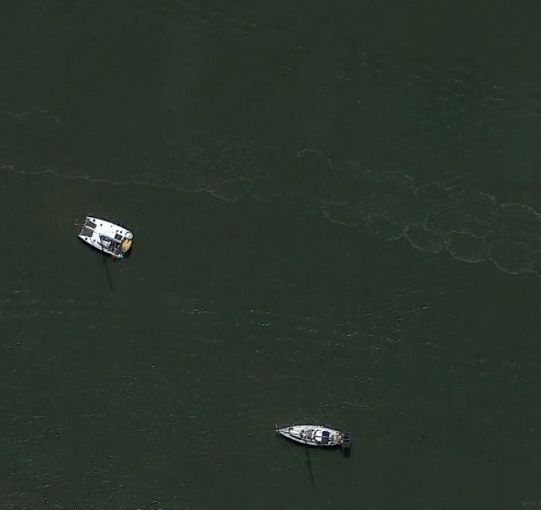boat: (77, 216, 137, 261), (274, 423, 348, 449)
